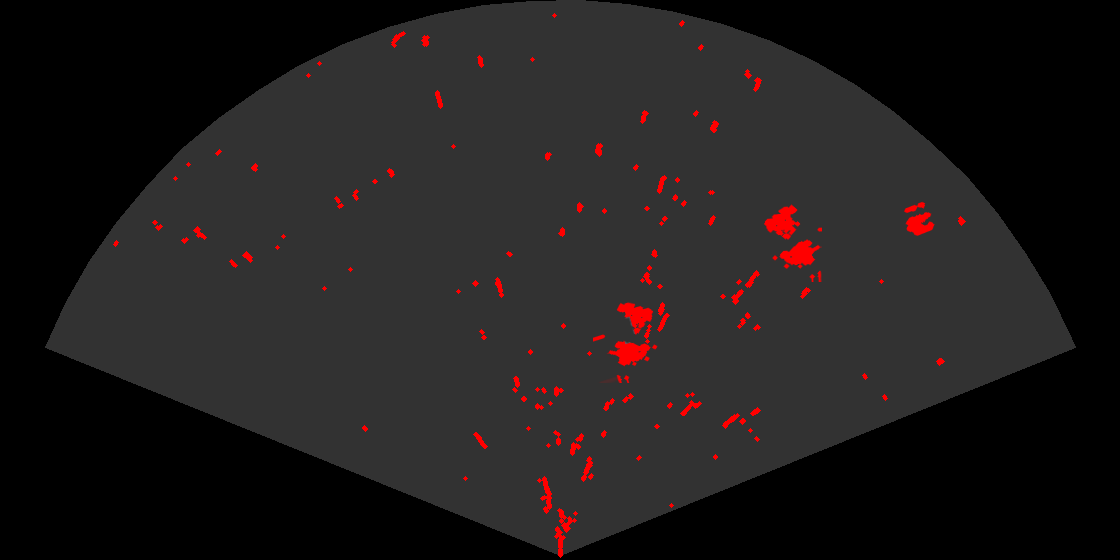ball: (903, 200, 936, 237)
cage: (593, 301, 659, 383), (763, 203, 822, 282)
